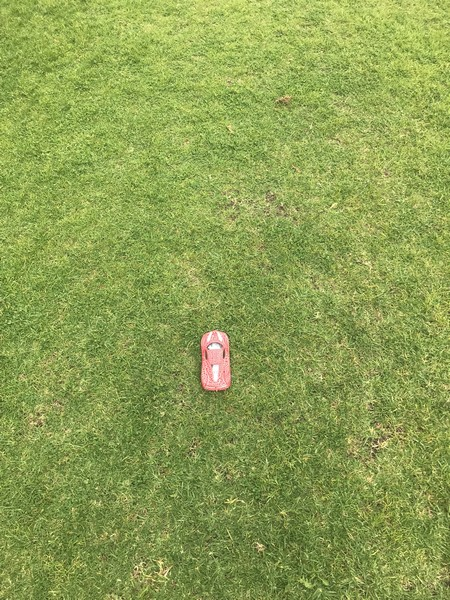RC: (198, 330, 234, 394)
